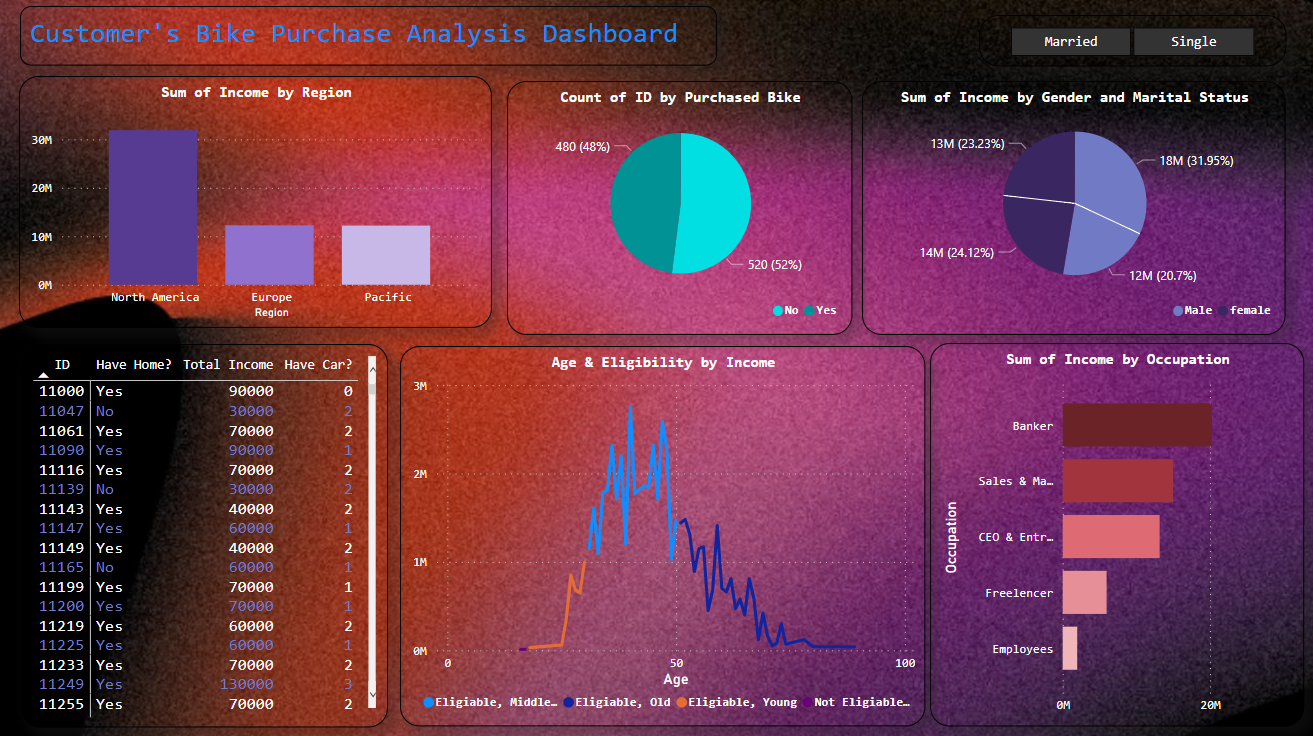

The page's visual inventory and layout, read from the dashboard file:
{"tool":"powerbi","page":{"name":"Page 1","canvas":[1280,720],"ordinal":0},"visuals":[{"type":"textbox","box":[20.4,7.8,677.9,58.4],"z":0},{"type":"pieChart","fields":{"Category":["bike_buyers.Gender"],"Y":["Sum(bike_buyers.Income)"],"Series":["bike_buyers.Marital Status"]},"box":[839.4,80.7,412.4,247.1],"z":1000},{"type":"slicer","fields":{"Values":["bike_buyers.Marital Status"]},"box":[953.2,16.5,298.6,49.6],"z":2000},{"type":"columnChart","fields":{"Category":["bike_buyers.Region"],"Y":["Sum(bike_buyers.Income)"]},"box":[19.5,75.9,460.1,245.1],"z":3000},{"type":"barChart","fields":{"Category":["bike_buyers.Occupation"],"Y":["Sum(bike_buyers.Income)"]},"box":[905.5,335.6,363.8,373.5],"z":4000},{"type":"lineChart","title":"Age & Eligibility by Income","fields":{"Category":["bike_buyers.Age"],"Y":["Sum(bike_buyers.Income)"],"Series":["bike_buyers.Eligiable for Purchase"]},"box":[390,338.5,510.6,369.6],"z":5000},{"type":"pieChart","fields":{"Category":["bike_buyers.Purchased Bike"],"Y":["CountNonNull(bike_buyers.ID)"]},"box":[494.1,80.7,335.6,247.1],"z":6000},{"type":"pivotTable","fields":{"Values":["Min(bike_buyers.Home Owner)","Sum(bike_buyers.Income)","Sum(bike_buyers.Cars)"],"Rows":["bike_buyers.ID"]},"box":[21.4,336.5,357,373.5],"z":7000}]}

Visuals, with their boxes in screenshot pixels (x1, y1, x2, y2), scaled from the page's 1280x720 canvas onto the 1313x736 screenshot:
textbox: {"left": 21, "top": 8, "right": 716, "bottom": 68}
pieChart - bike_buyers.Gender x Sum(bike_buyers.Income): {"left": 861, "top": 82, "right": 1284, "bottom": 335}
slicer - bike_buyers.Marital Status: {"left": 978, "top": 17, "right": 1284, "bottom": 68}
columnChart - bike_buyers.Region x Sum(bike_buyers.Income): {"left": 20, "top": 78, "right": 492, "bottom": 328}
barChart - bike_buyers.Occupation x Sum(bike_buyers.Income): {"left": 929, "top": 343, "right": 1302, "bottom": 725}
"Age & Eligibility by Income" lineChart: {"left": 400, "top": 346, "right": 924, "bottom": 724}
pieChart - bike_buyers.Purchased Bike x CountNonNull(bike_buyers.ID): {"left": 507, "top": 82, "right": 851, "bottom": 335}
pivotTable - Min(bike_buyers.Home Owner) x Sum(bike_buyers.Income): {"left": 22, "top": 344, "right": 388, "bottom": 726}
